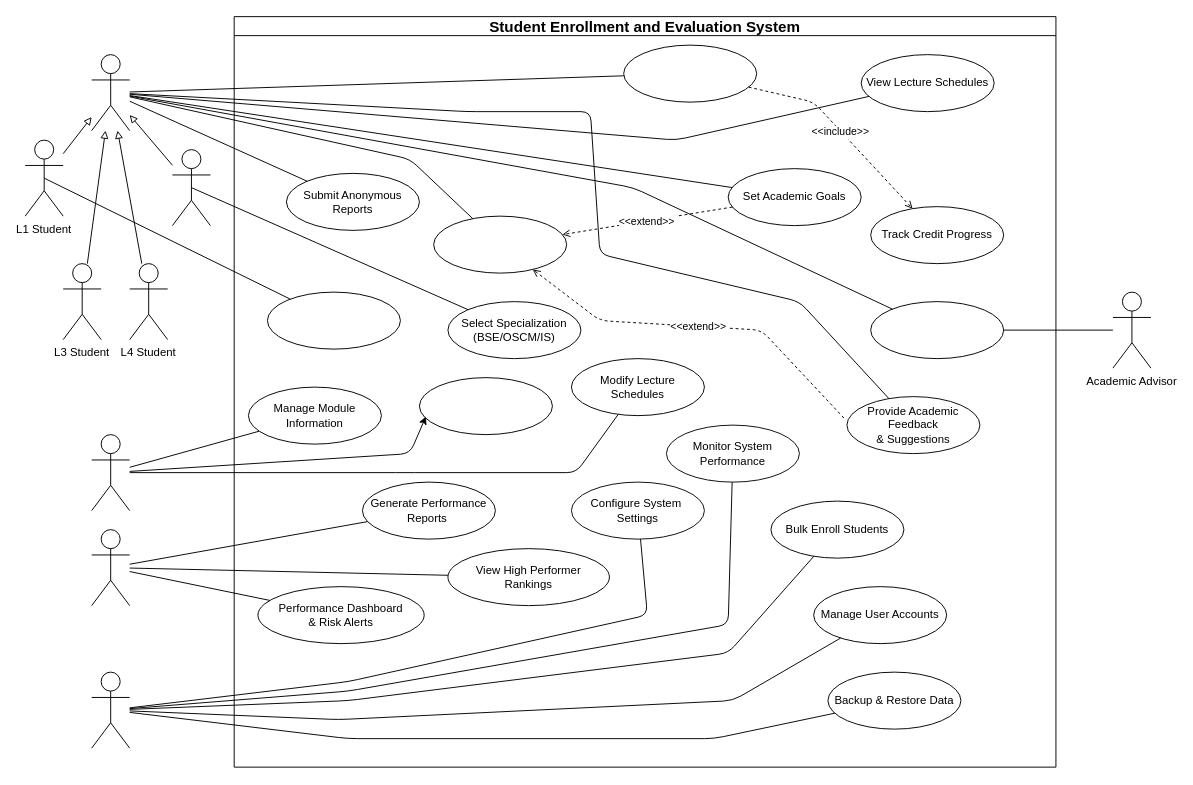
This 1193x785 diagram has some shape labels left out. The centre of each missing label's shape, as x and y in pixels:
"Academic Staff" belongs at (110,472).
"Communicate with Advisor" belongs at (937,330).
"Head of Department" belongs at (110,567).
"L2 Student" belongs at (190,187).
"Register for Modules" belongs at (690,73).
"Select Degree Path (MIT/IT)" belongs at (333,320).
"Student" belongs at (110,92).
"System Administrator" belongs at (110,709).
"Track GPA & Academic Class" belongs at (500,244).
"Upload & Release Grades" belongs at (485,406).
